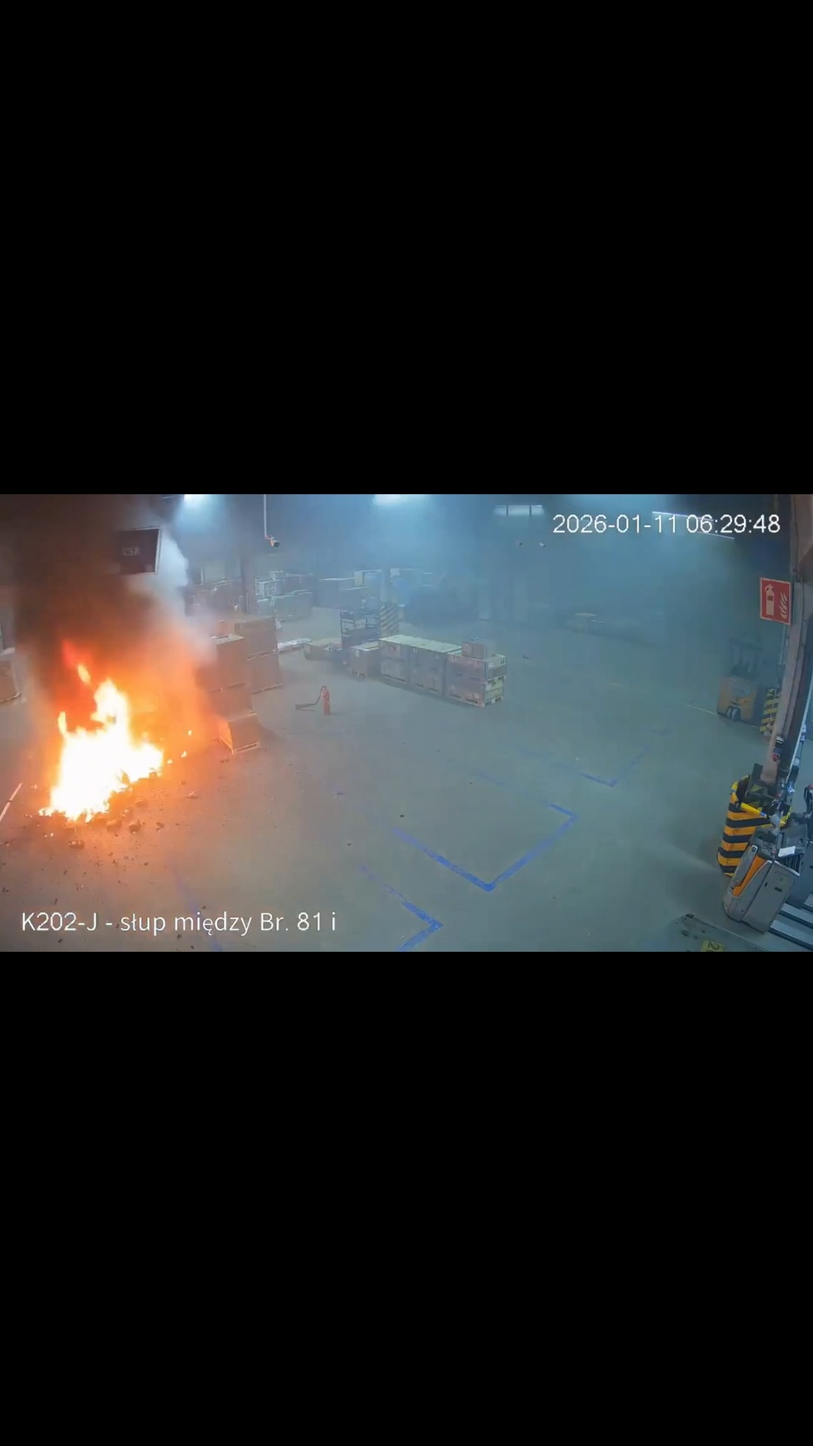fire: (37, 639, 218, 828)
smoke: (1, 496, 209, 728)
